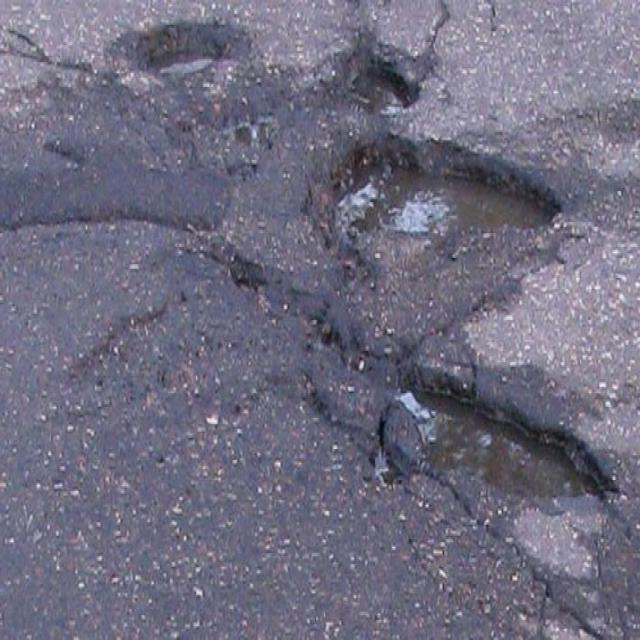Pothole: (373, 362, 619, 516), (329, 129, 565, 258)
